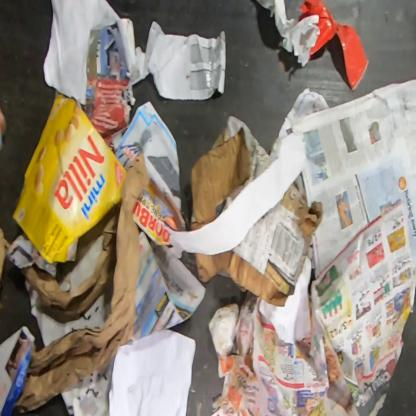cardboard: (11, 88, 128, 266), (155, 128, 308, 259), (195, 180, 323, 306), (189, 115, 276, 231)
rigid_plastic: (297, 0, 370, 93)
